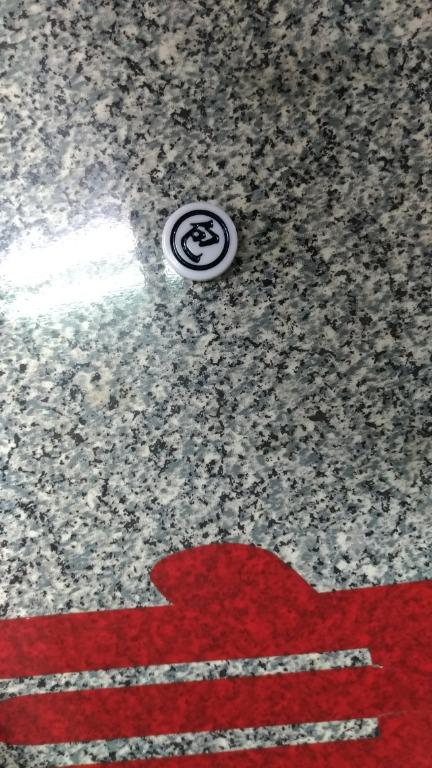b-cannon: (146, 186, 266, 295)
